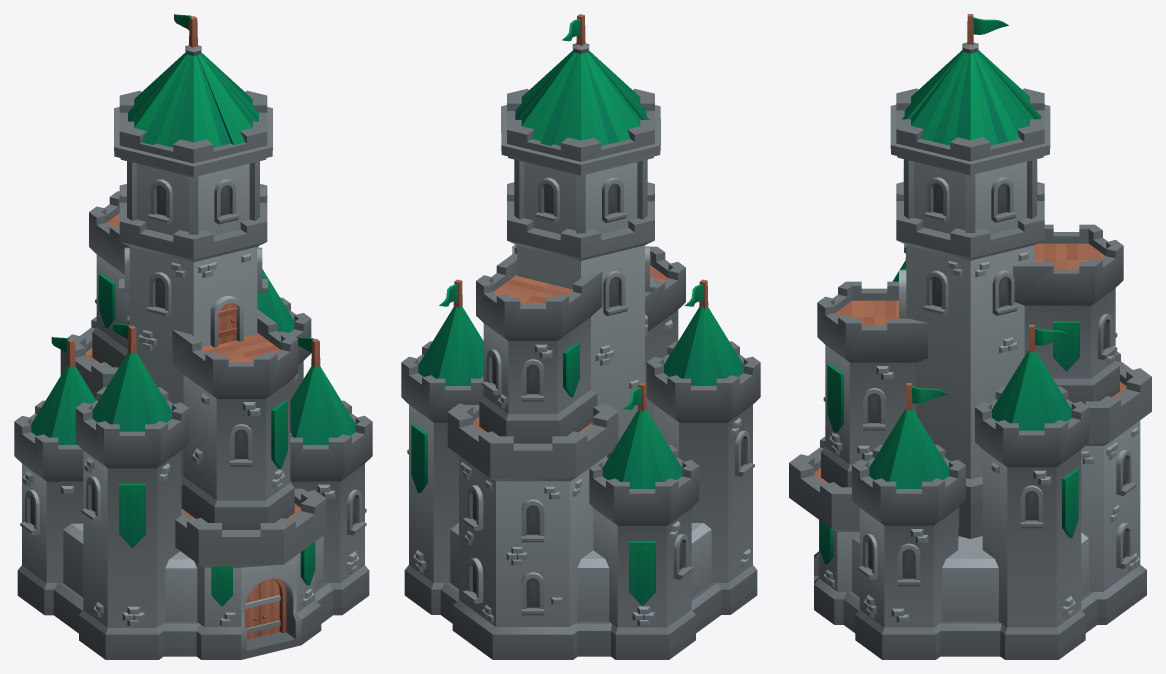
File: hub.glb
3 renders of one model, left to right at view 1: azimuth 30°, elevation 25°; view 2: azimuth 150°, elevation 25°; view 3: azimuth 270°, elevation 25°, orthographic.
Visible parts, largest first — view 1: building_castle_green; view 2: building_castle_green; view 3: building_castle_green.
Part boxes in pixels (bbox=[...]): building_castle_green: bbox=[14, 14, 372, 659]; building_castle_green: bbox=[401, 14, 760, 659]; building_castle_green: bbox=[789, 14, 1151, 659].
Size of the model in its own units: 1.98 by 3.98 by 2.26.
1 material, 1 textured.
